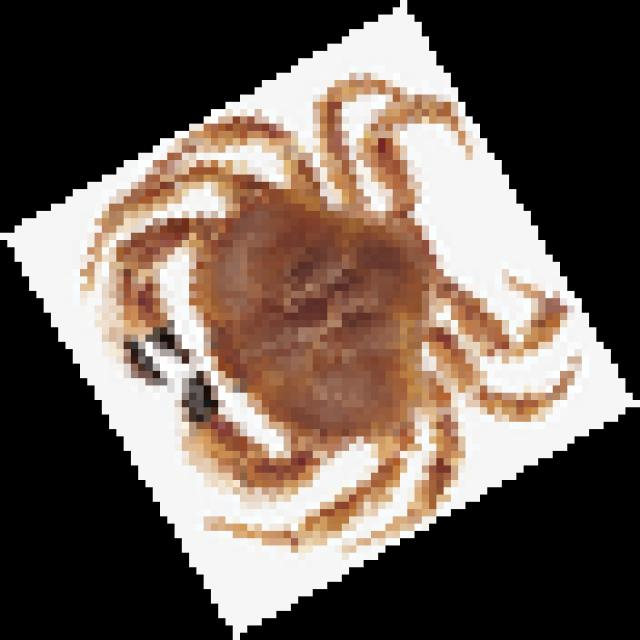Native Jonah crab: (80, 73, 567, 538)
